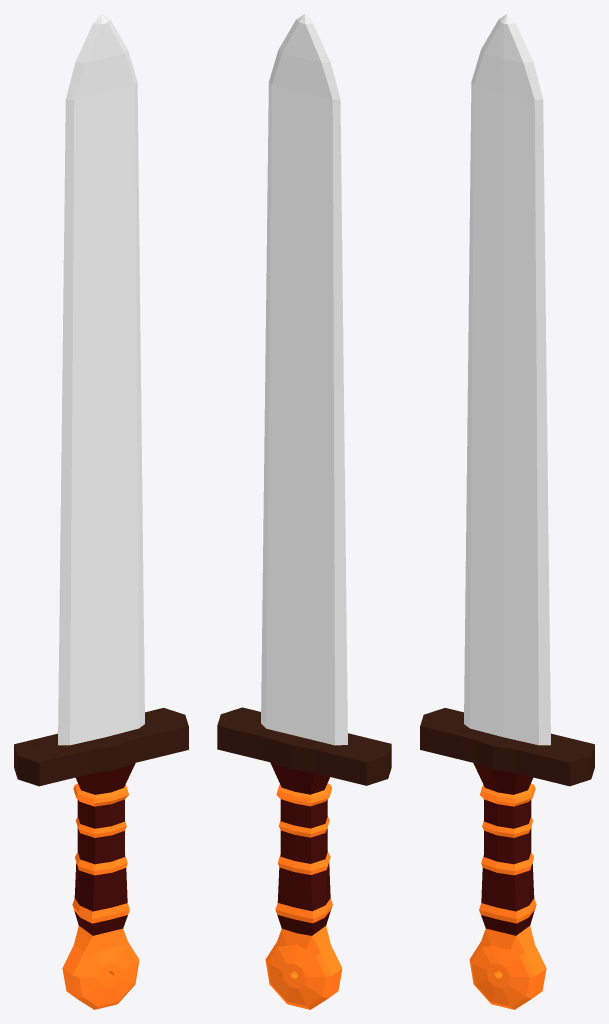
File: sword.glb
3 views of the same model, side by side, from view 1: azimuth 30°, elevation 25°; view 2: azimuth 150°, elevation 25°; view 3: azimuth 330°, elevation 25° (orthographic).
Parts seen in each view (by area): view 1: Sword; view 2: Sword; view 3: Sword.
Part boxes in pixels (x1,y1,x2,y2): Sword: [14, 14, 188, 1009]; Sword: [217, 14, 391, 1009]; Sword: [420, 14, 594, 1009].
Bounding box in the file's own units: 0.3278 × 1.85 × 0.0971.
